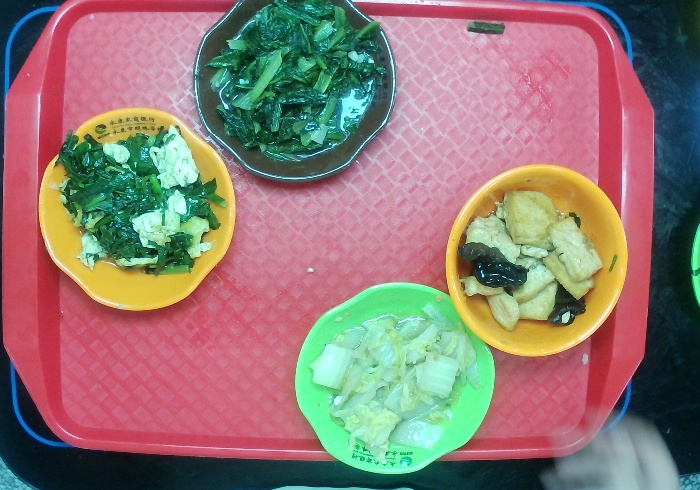YKMZ-Ju_Se_Ao_Bian_Wan: (36, 108, 238, 310)
YKMZ-Ju_Se_Yuan_Wan: (445, 162, 631, 358)
YKMZ-Ka_Fei_Ao_Bian_Wan: (191, 4, 401, 187)
YKMZ-Lv_Se_Ao_Bian_Wan: (296, 280, 493, 475)
